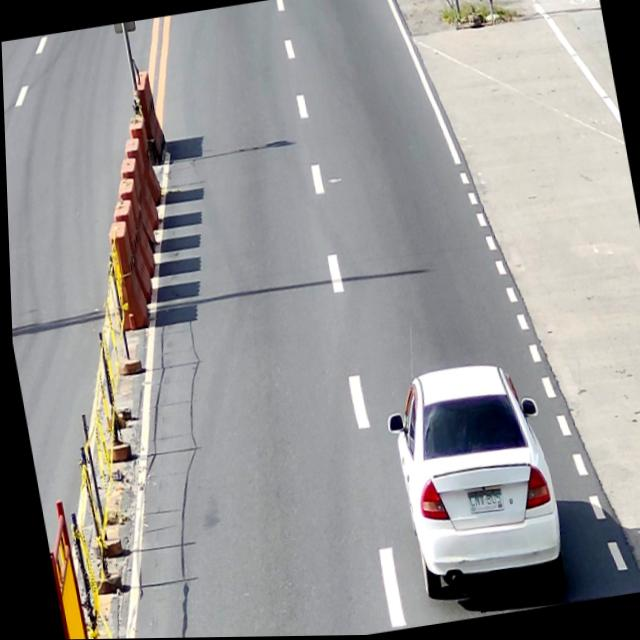Car: (375, 356, 567, 608)
License-Plate: (461, 486, 501, 517)
